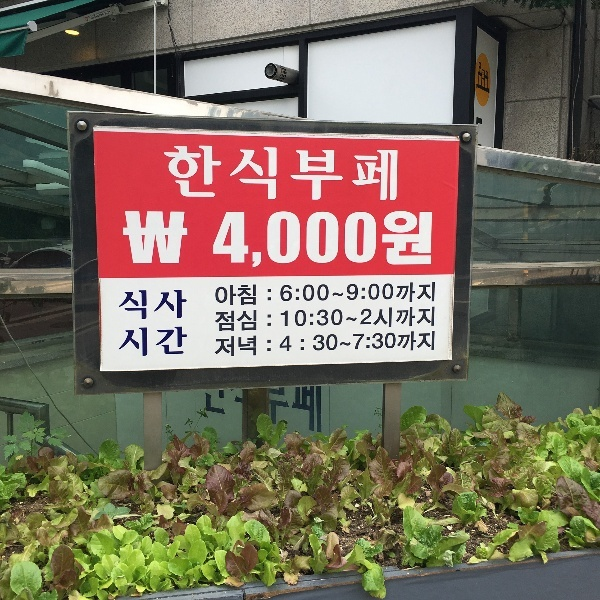text: (385, 141, 401, 205), (161, 141, 176, 205), (177, 141, 192, 205), (193, 141, 208, 205), (209, 141, 224, 205), (225, 141, 240, 205), (241, 141, 256, 205), (257, 141, 272, 205), (273, 141, 288, 205), (289, 141, 304, 205), (305, 141, 320, 205), (321, 141, 336, 205), (337, 141, 352, 205), (353, 141, 368, 205), (369, 141, 384, 205), (129, 207, 144, 270), (145, 207, 160, 270), (161, 207, 176, 270), (177, 207, 192, 270), (193, 207, 208, 270), (209, 207, 224, 270), (225, 207, 240, 270), (241, 207, 256, 270), (257, 207, 272, 270), (273, 207, 288, 270), (289, 207, 304, 270), (305, 207, 320, 270), (321, 207, 336, 270), (337, 207, 352, 270), (353, 207, 368, 270), (369, 207, 384, 270), (385, 207, 400, 270), (401, 207, 416, 270), (417, 207, 432, 270), (129, 289, 144, 321), (145, 289, 160, 321), (161, 289, 176, 321), (129, 326, 144, 357), (145, 326, 160, 357), (161, 326, 176, 357), (121, 207, 128, 270), (225, 330, 240, 359), (241, 330, 256, 359), (257, 330, 272, 359), (273, 330, 288, 359), (289, 330, 304, 359), (305, 330, 320, 359), (321, 330, 336, 359), (337, 330, 352, 359), (353, 330, 368, 359), (369, 330, 384, 359), (385, 330, 400, 359), (401, 330, 416, 359), (417, 330, 432, 359), (225, 306, 240, 334), (241, 306, 256, 334), (257, 306, 272, 334), (273, 306, 288, 334), (289, 306, 304, 334), (305, 306, 320, 334), (321, 306, 336, 334), (337, 306, 352, 334), (353, 306, 368, 334), (369, 306, 384, 334), (385, 306, 400, 334), (401, 306, 416, 334), (417, 306, 432, 334), (225, 281, 240, 307), (241, 281, 256, 307), (257, 281, 272, 307), (273, 281, 288, 307), (289, 281, 304, 307), (305, 281, 320, 307), (321, 281, 336, 307), (337, 281, 352, 307), (353, 281, 368, 307), (369, 281, 384, 307), (385, 281, 400, 307), (401, 281, 416, 307), (417, 281, 432, 307), (177, 289, 188, 321), (177, 326, 188, 357), (215, 330, 224, 359), (215, 306, 224, 334), (121, 289, 128, 321), (216, 281, 224, 307), (123, 326, 128, 357), (433, 330, 436, 359), (433, 306, 436, 334), (433, 281, 436, 307), (433, 207, 434, 270)
